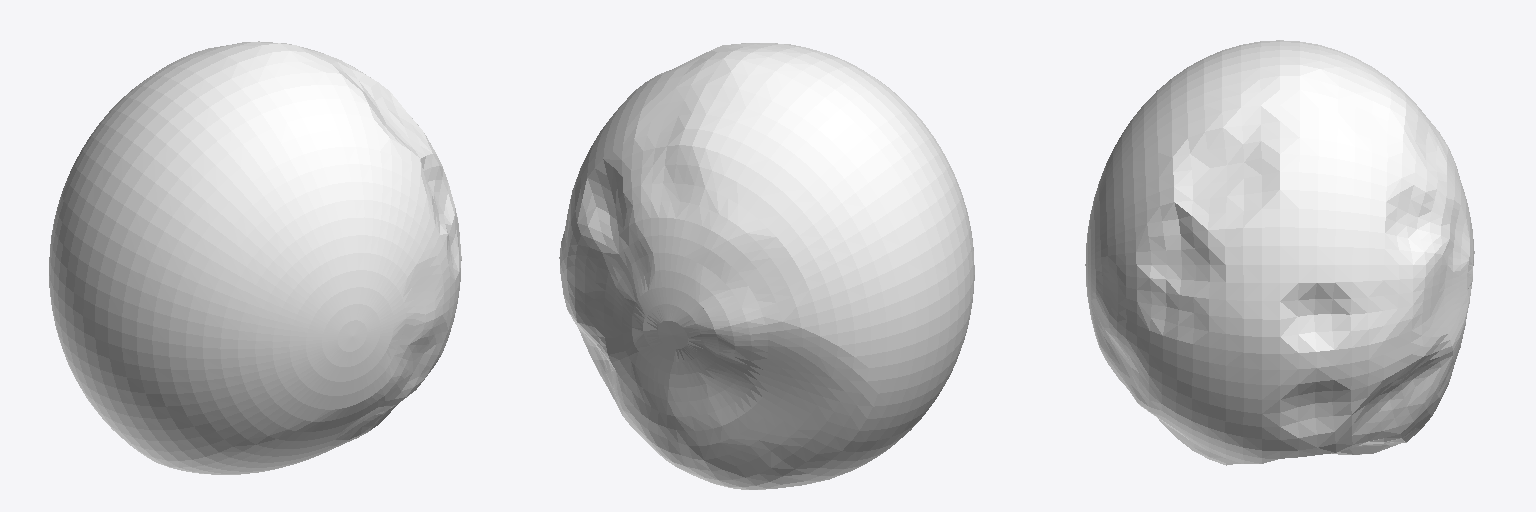
Rendered from n7larissa_MLfix.obj.
3 renders of one model, left to right at view 1: azimuth 30°, elevation 25°; view 2: azimuth 150°, elevation 25°; view 3: azimuth 270°, elevation 25°, orthographic.
Bounding box in the file's own units: 193 × 201 × 178.